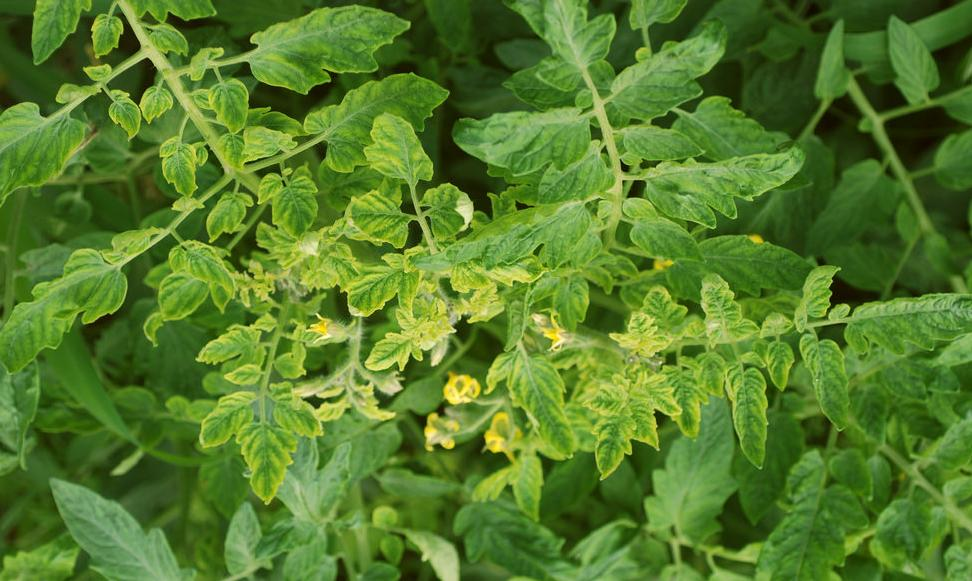Tomato leaf yellow virus: (0, 244, 121, 380), (302, 73, 455, 180), (247, 3, 417, 89), (445, 188, 601, 281), (612, 24, 727, 115), (0, 97, 82, 220), (455, 106, 597, 175), (845, 285, 972, 357), (507, 347, 576, 461), (232, 415, 308, 504), (616, 274, 686, 360), (255, 160, 327, 242), (724, 364, 774, 475), (364, 108, 436, 182), (350, 247, 419, 320), (198, 381, 268, 451), (624, 213, 710, 265), (343, 188, 413, 250), (586, 402, 637, 484), (171, 233, 237, 295), (787, 266, 844, 330), (420, 181, 473, 240), (692, 267, 741, 329), (196, 322, 263, 366), (100, 83, 146, 147), (203, 187, 254, 244), (550, 272, 596, 332), (212, 71, 253, 134), (157, 137, 197, 200), (361, 337, 420, 375), (90, 2, 127, 62), (139, 81, 179, 126)
